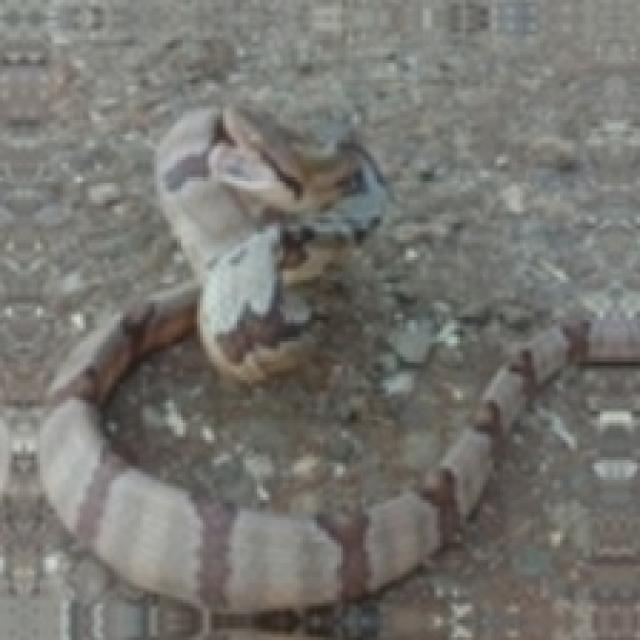dog-toothed cat snake: (40, 106, 637, 614)
